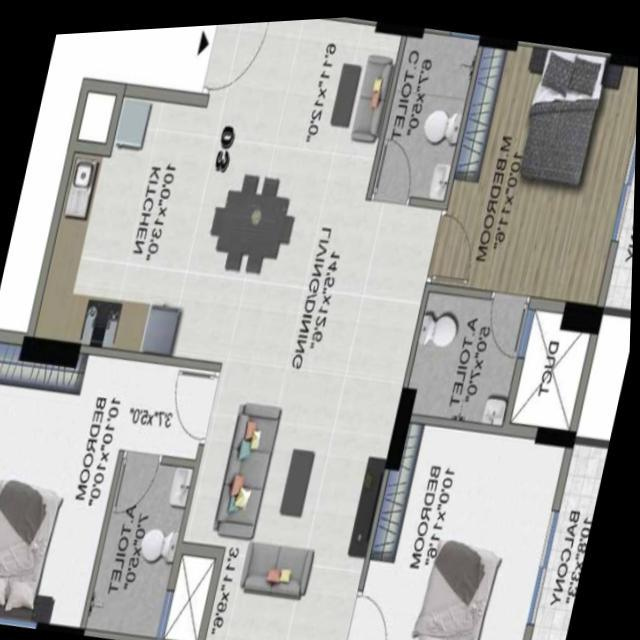Balcony-Sitout: (529, 441, 611, 640), (602, 148, 637, 314)
Bedroom: (351, 406, 581, 640)
Bedroom with Toilet: (399, 33, 639, 429), (0, 323, 216, 639)
Dining: (200, 161, 311, 276)
Enterance-Foyer: (184, 17, 270, 91)
Kitchen: (26, 69, 207, 351)
Living: (158, 357, 403, 640)
Toilet: (80, 439, 200, 639), (399, 278, 544, 436), (369, 22, 486, 206)
